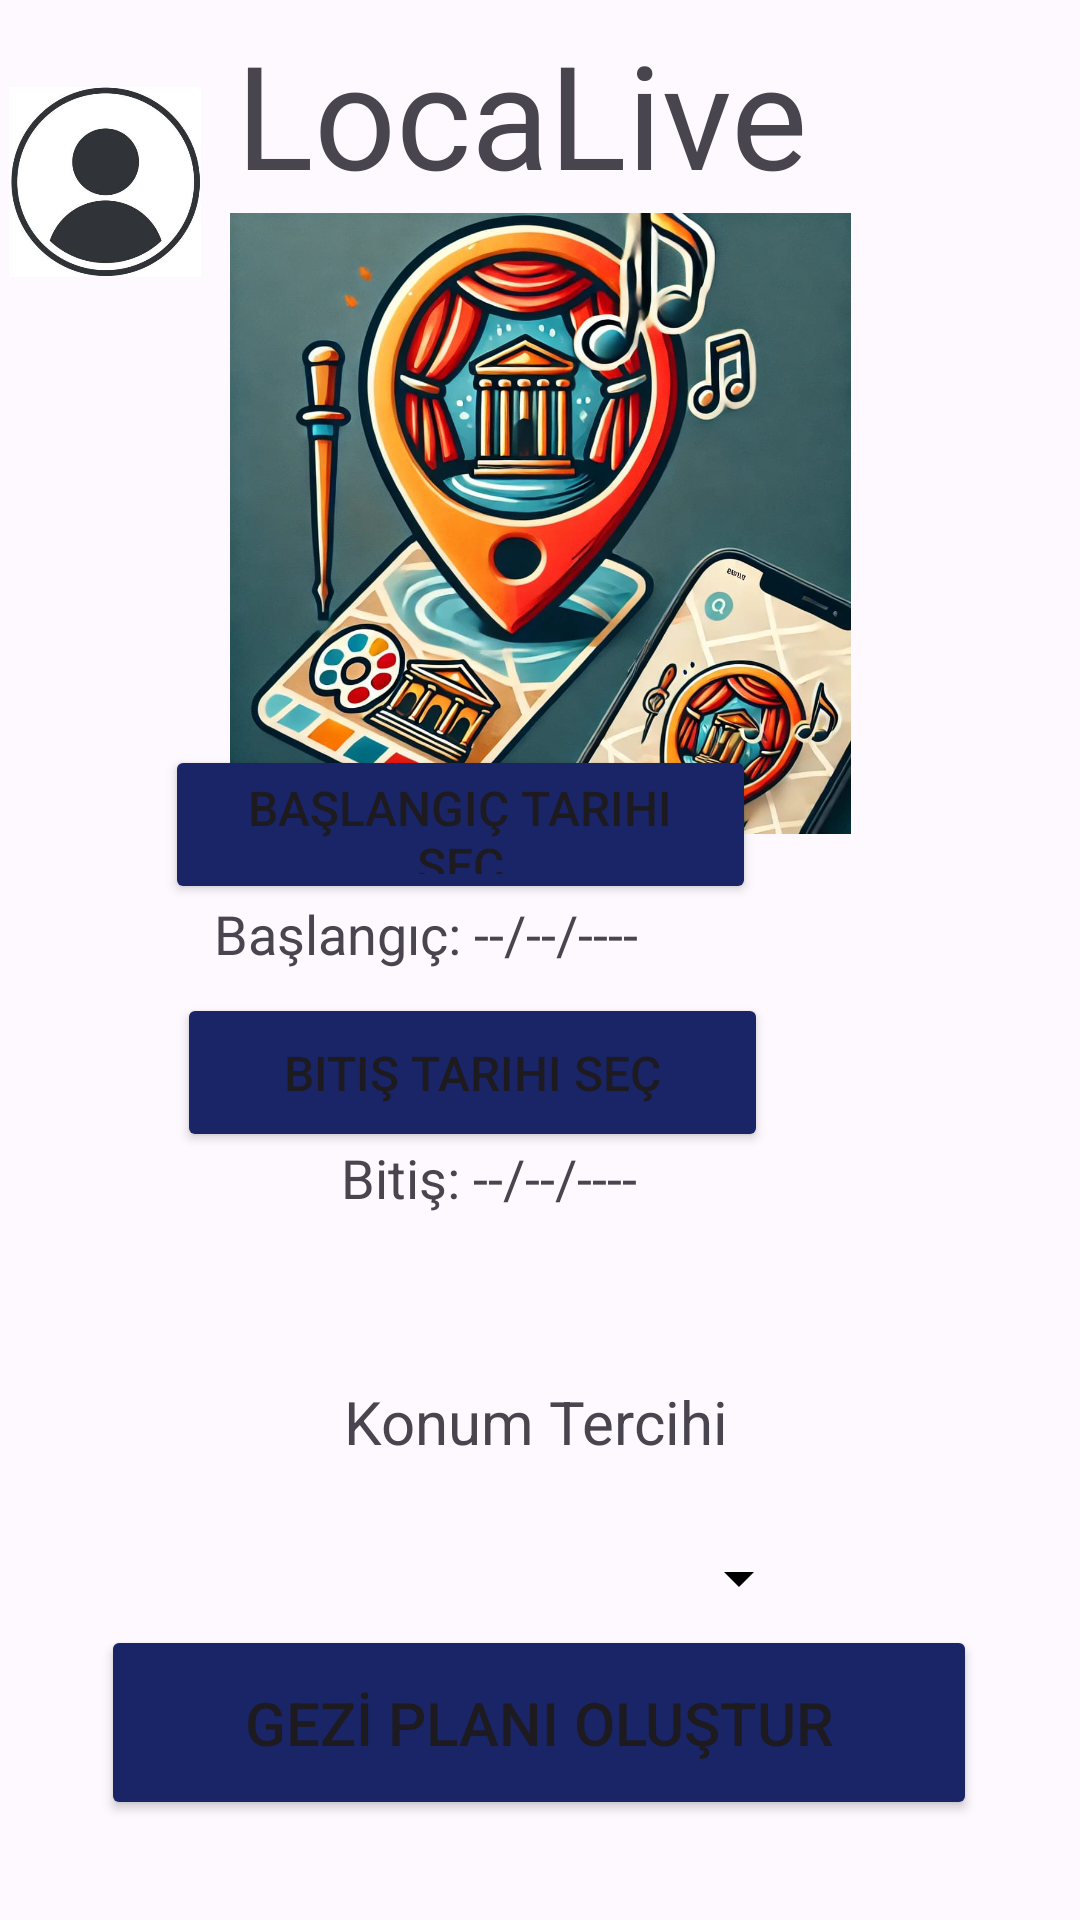

Point at icon controls on the screen. Image size 1080px×1920px, points as (x=x, y=y).
perfil: (x=105, y=181)
